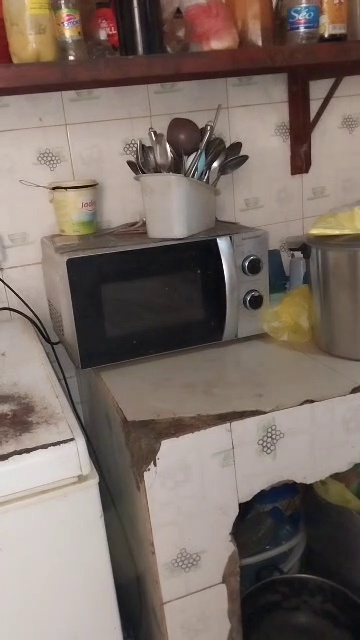microwave: (57, 226, 289, 381)
